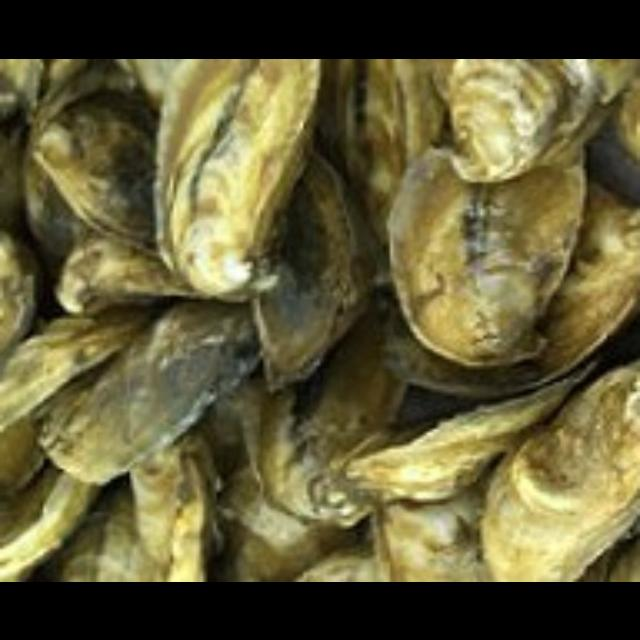Oyster-Closed: (386, 185, 640, 399), (391, 148, 586, 367), (151, 58, 320, 302), (44, 305, 258, 484), (260, 295, 408, 531), (342, 364, 588, 502), (485, 362, 640, 581), (318, 58, 449, 286), (252, 151, 369, 390), (24, 66, 126, 269), (34, 90, 157, 254), (432, 58, 598, 177), (0, 310, 154, 430), (212, 466, 369, 581), (374, 462, 500, 581), (130, 426, 224, 565), (57, 234, 212, 312), (37, 490, 165, 581), (167, 462, 205, 581), (0, 230, 37, 352), (292, 535, 377, 581)
